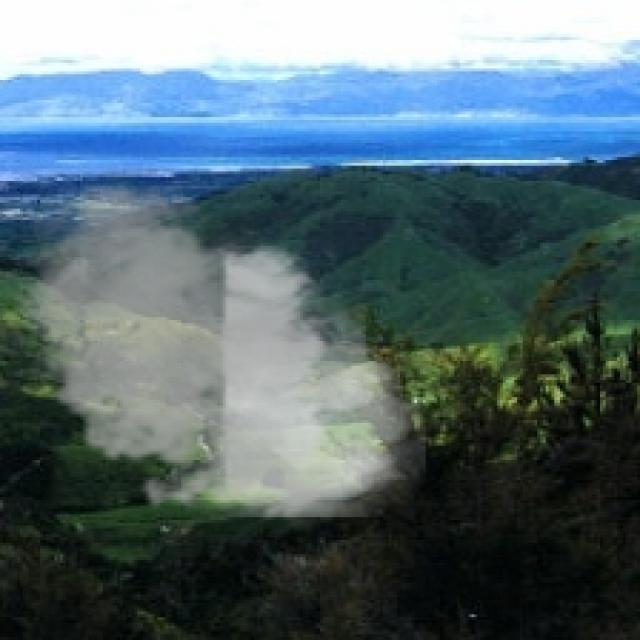Smoke: (0, 177, 426, 532)
